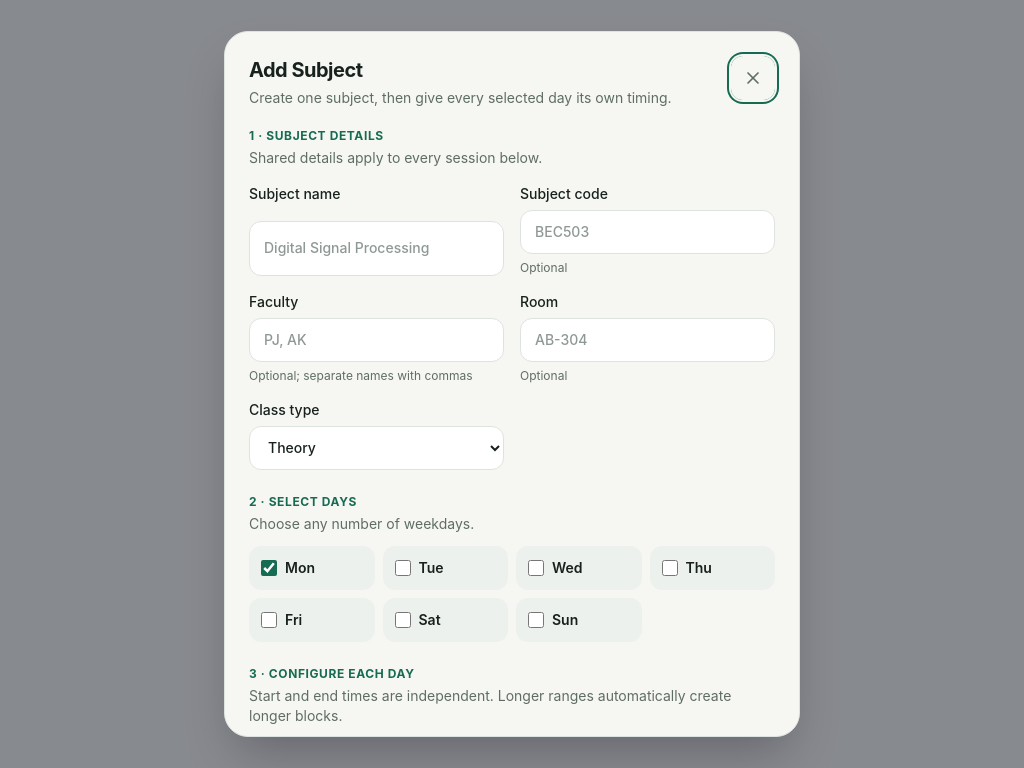
Test case: Add Subject › blocks a conflicting session before preview
Type "Signals" into the field labelled "Subject name".
click(376, 248); type("Signals")  # box left=249, top=221, right=504, bottom=276
(page scrolled)
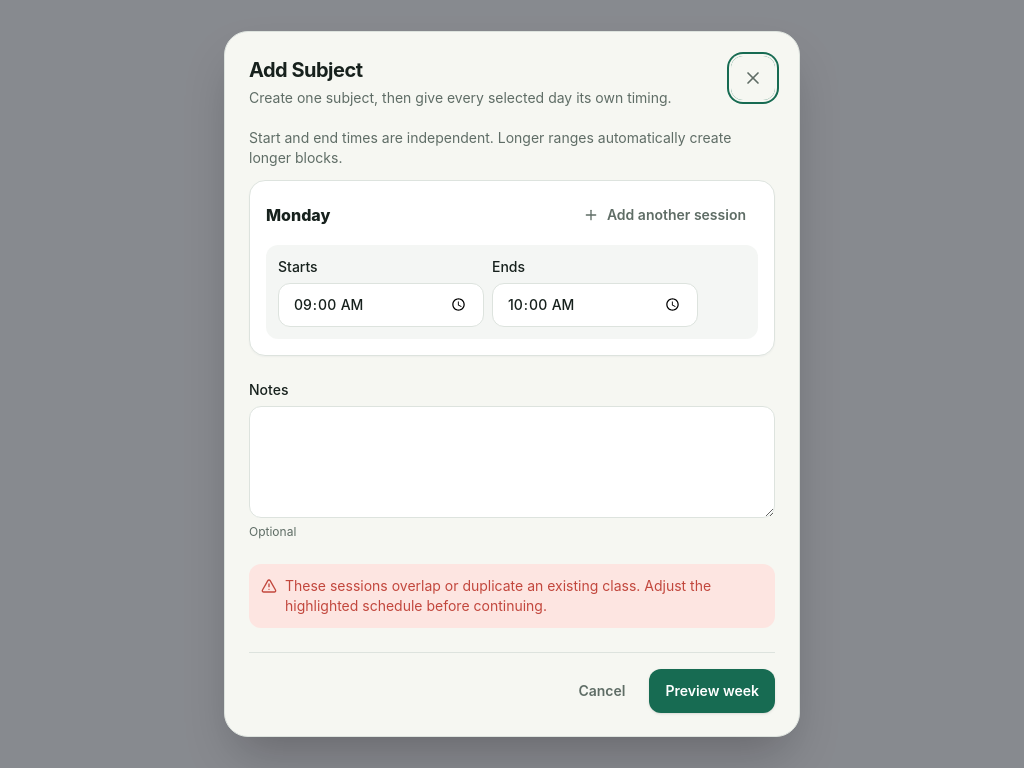
Result: the text "overlap or duplicate" is shown at left=285, top=577, right=711, bottom=614
Click the button with test id "preview-subject".
click(712, 691)  # box left=649, top=669, right=775, bottom=713
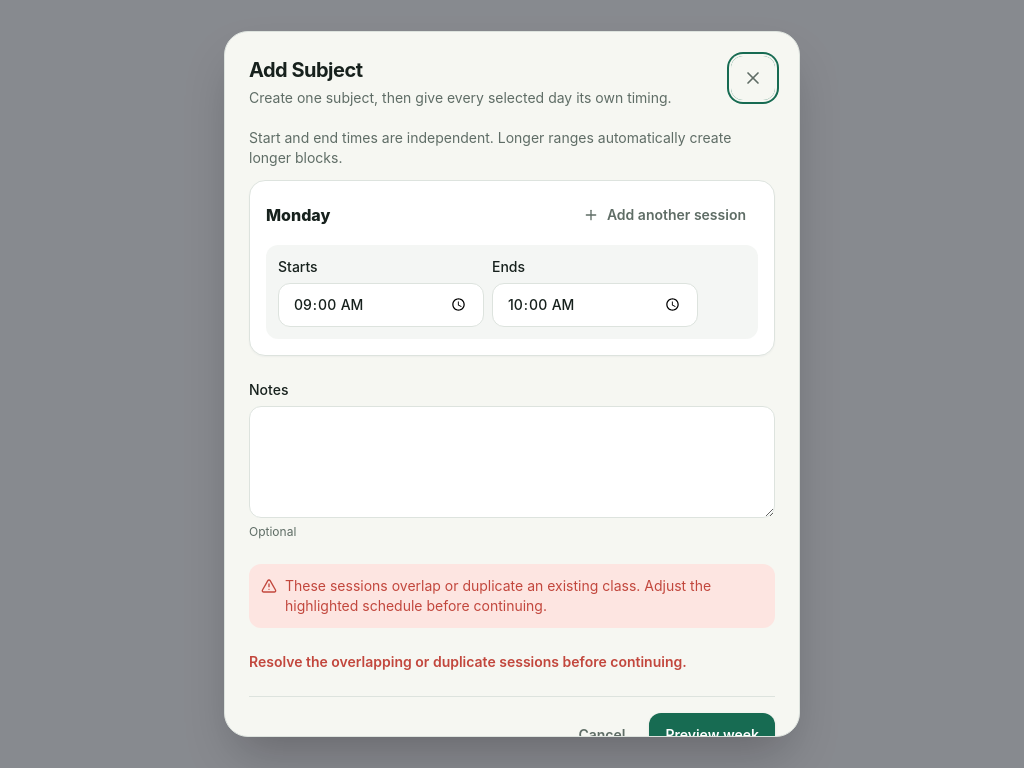
Result: the message shows "Resolve the overlapping" at left=249, top=653, right=687, bottom=670
